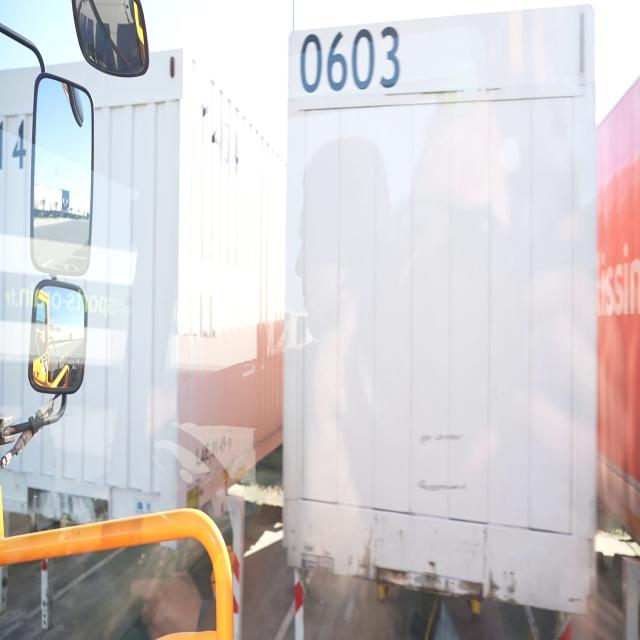Code: (296, 21, 404, 97)
